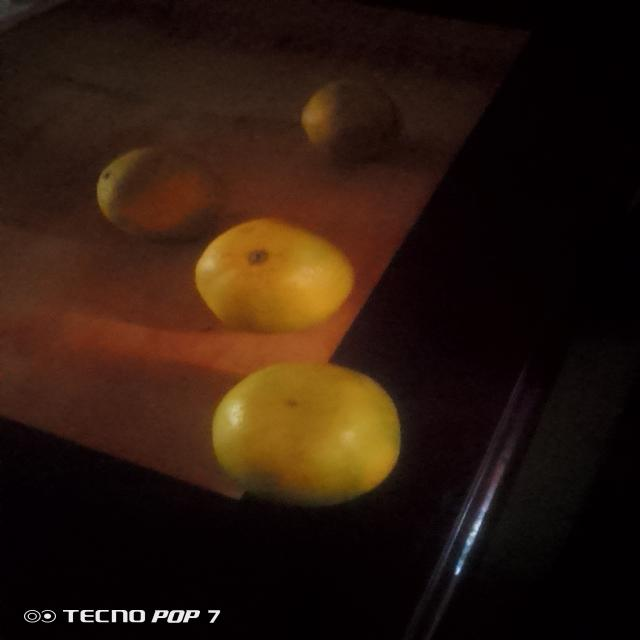Ripe orange: (199, 369, 413, 502), (188, 208, 379, 339), (89, 145, 222, 243), (298, 74, 400, 155)
